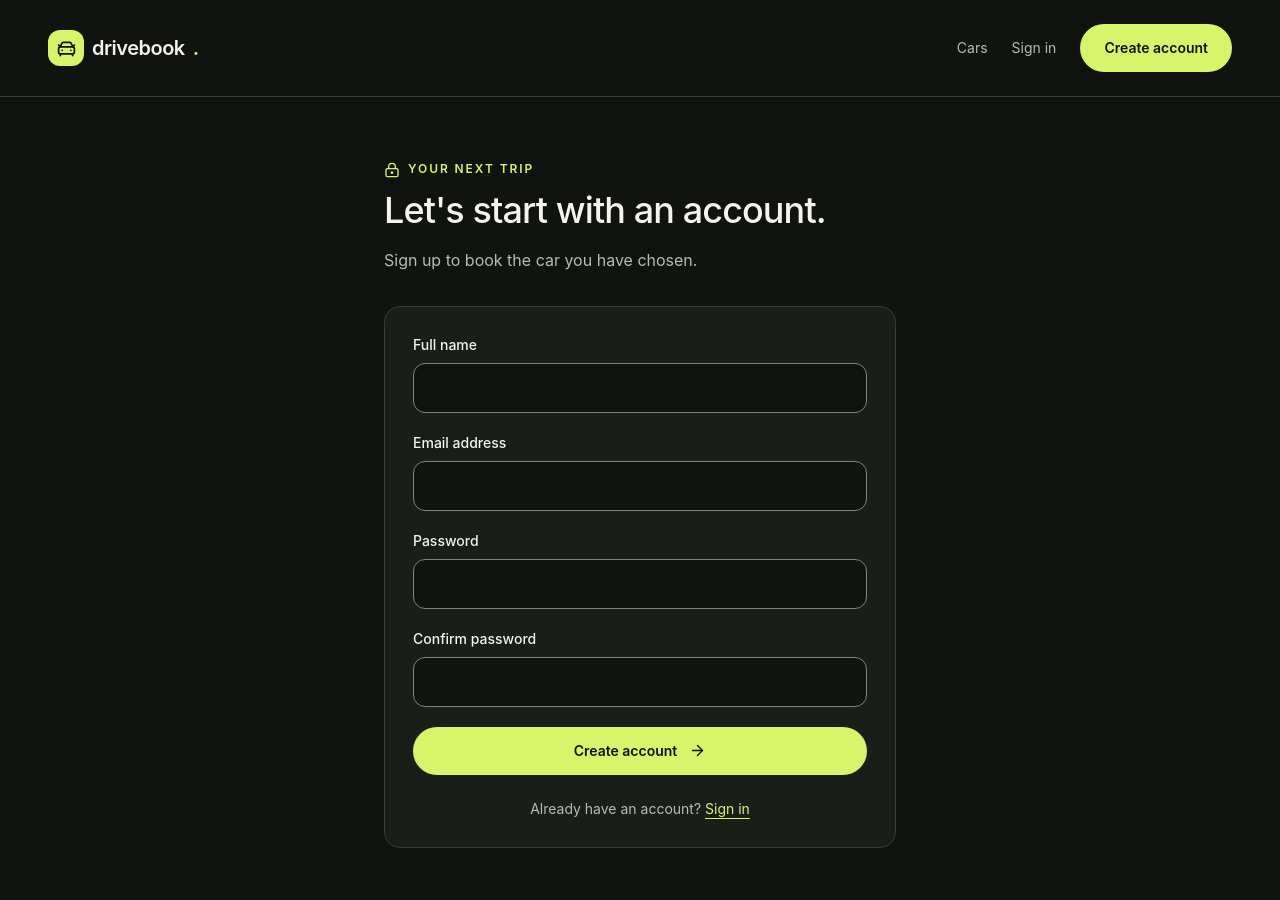
Test case: registration › describes the email field with the server message on 422
In the field labelled "Full name": (640, 388) [413,363,867,413], type "Demo Driver"
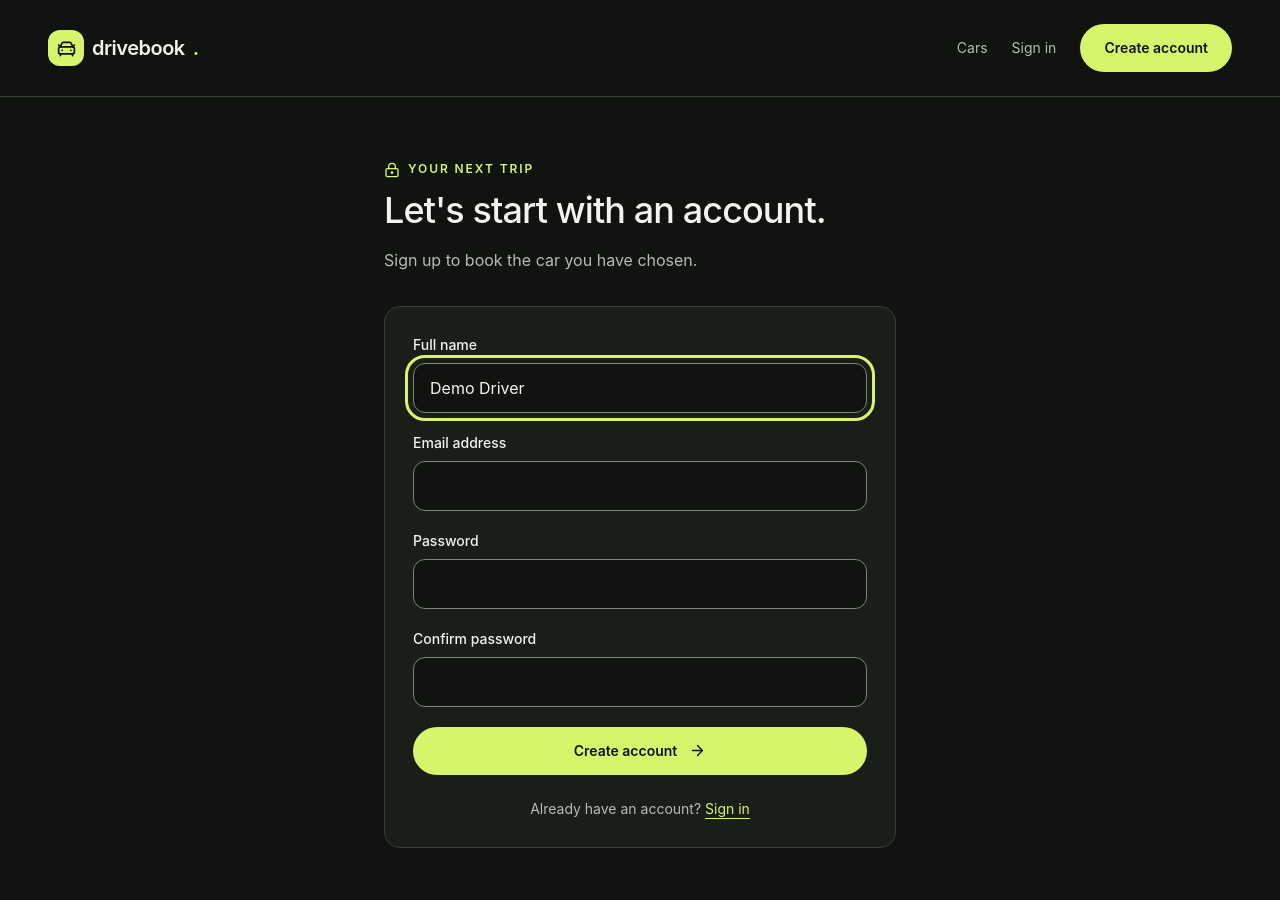
In the field labelled "Email address": (640, 486) [413,461,867,511], type "demo@drivebook.test"
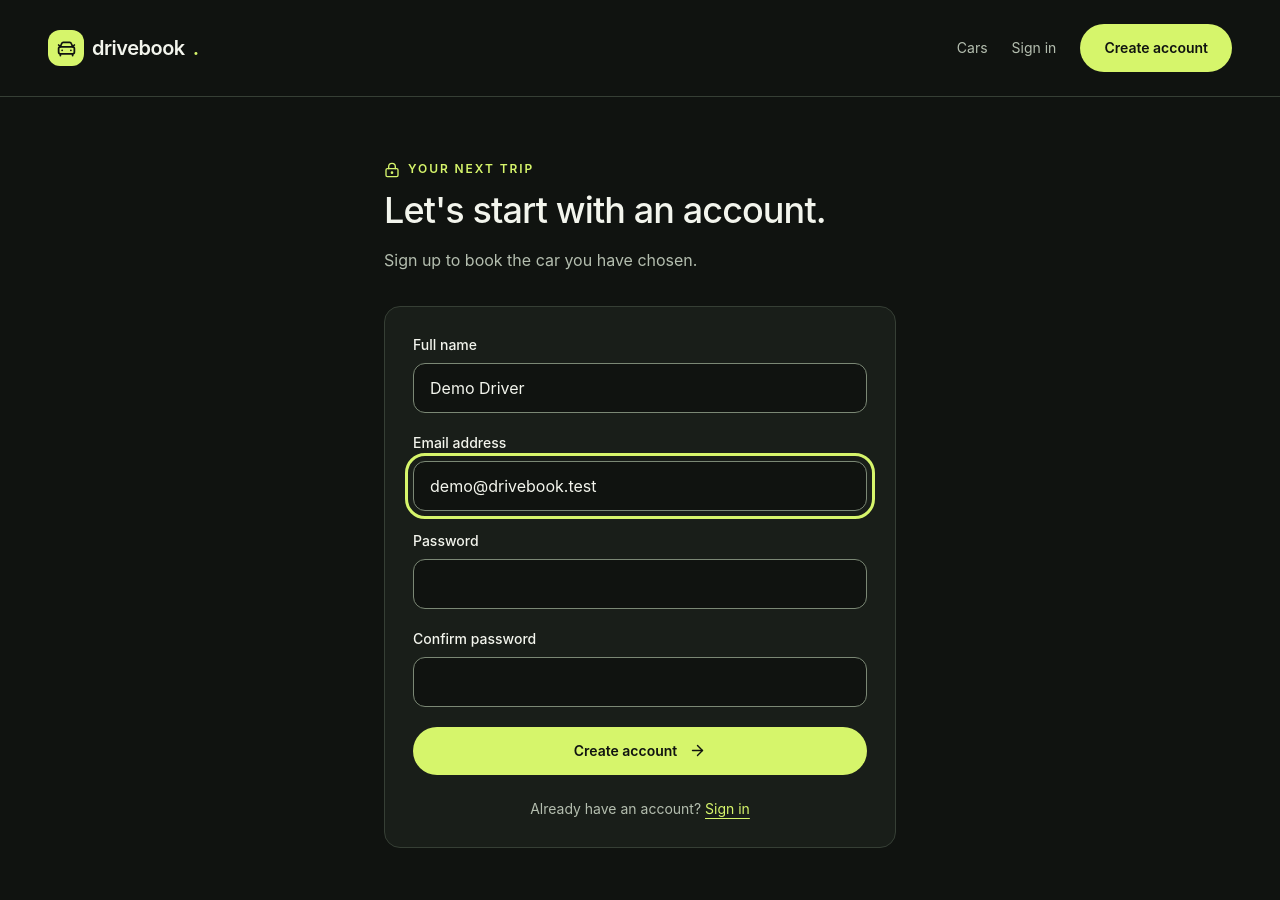
In the password field labelled "Password": (640, 584) [413,559,867,609], type "demo-password-123"
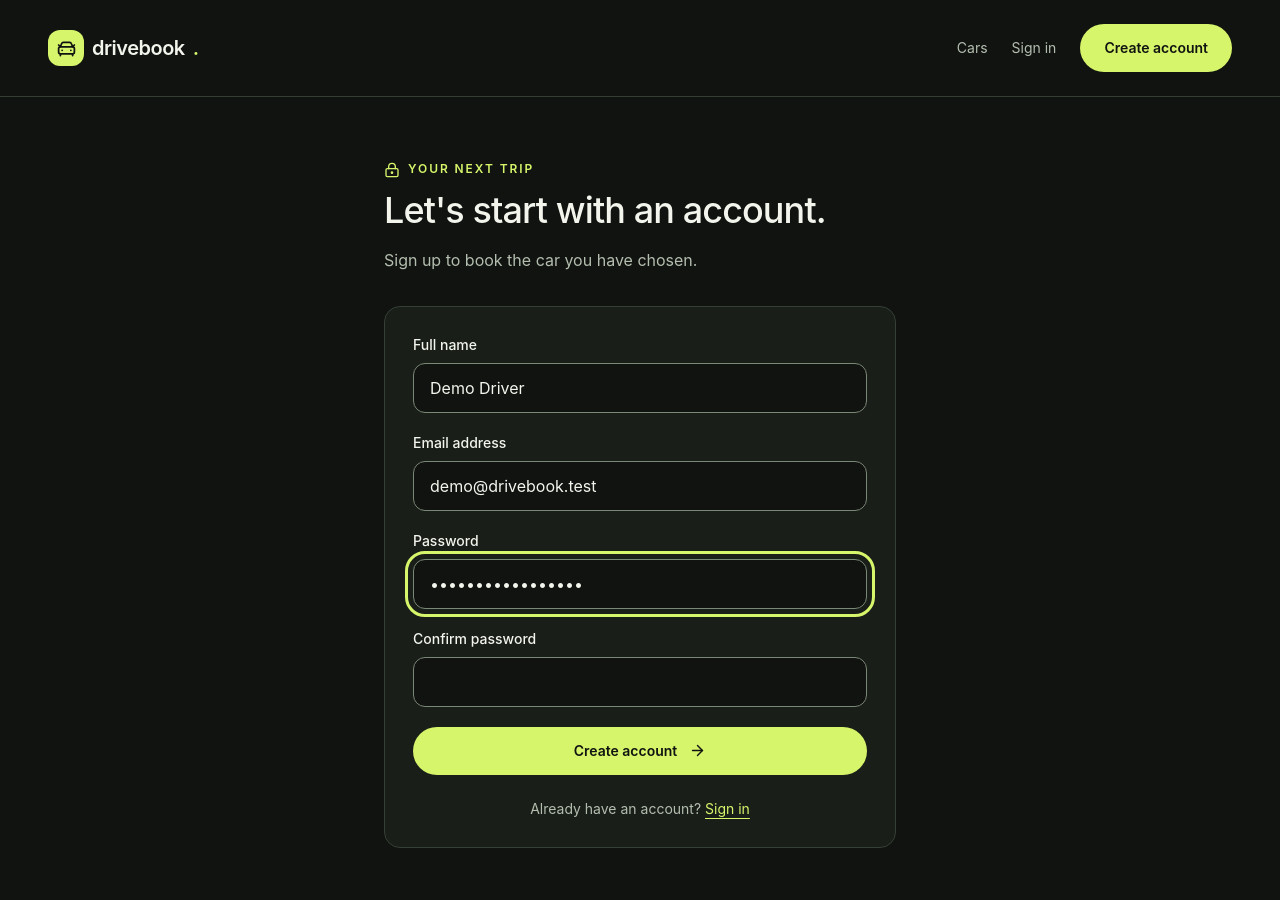
In the password field labelled "Confirm password": (640, 682) [413,657,867,707], type "demo-password-123"
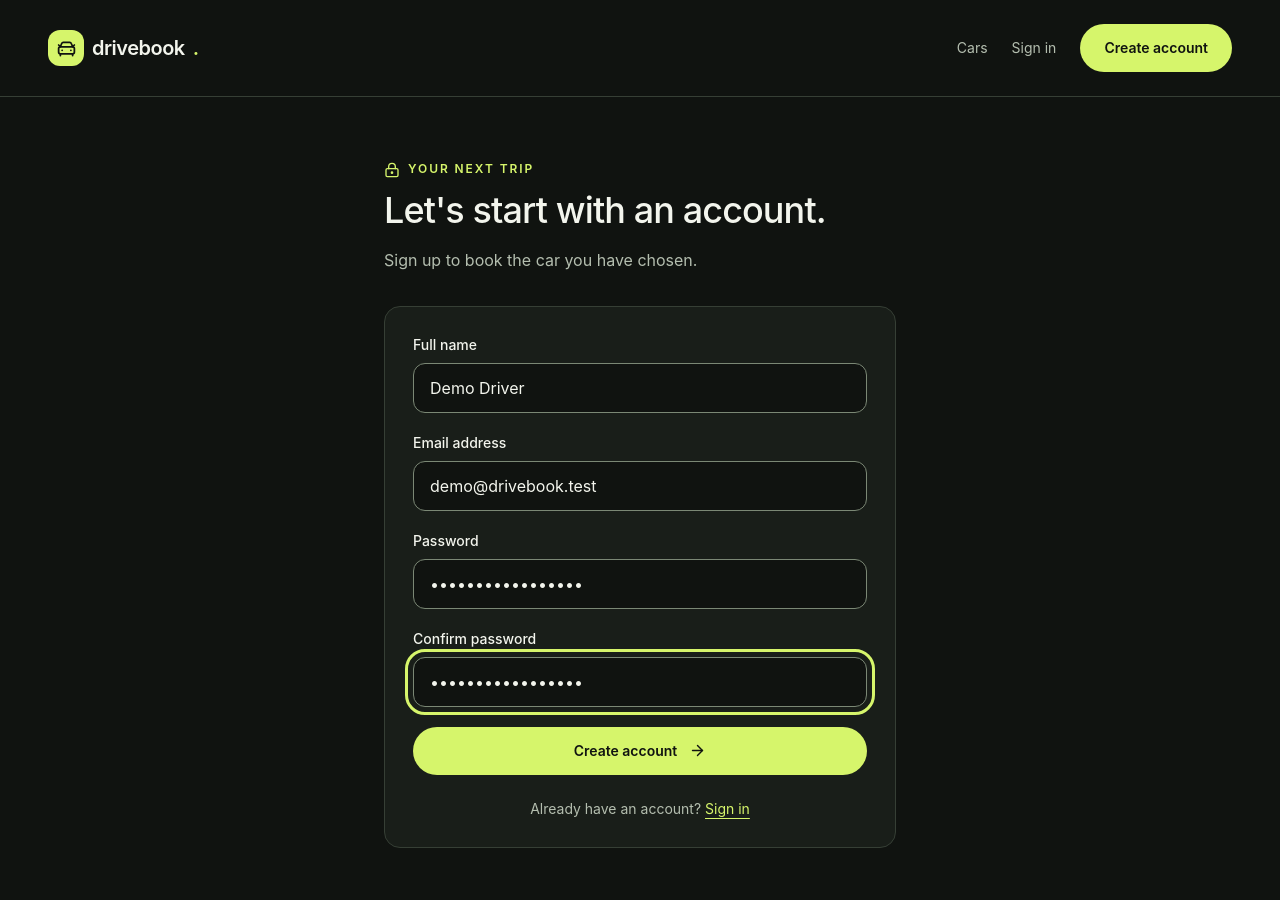
Click the button "Create account": (640, 751) [413,727,867,775]
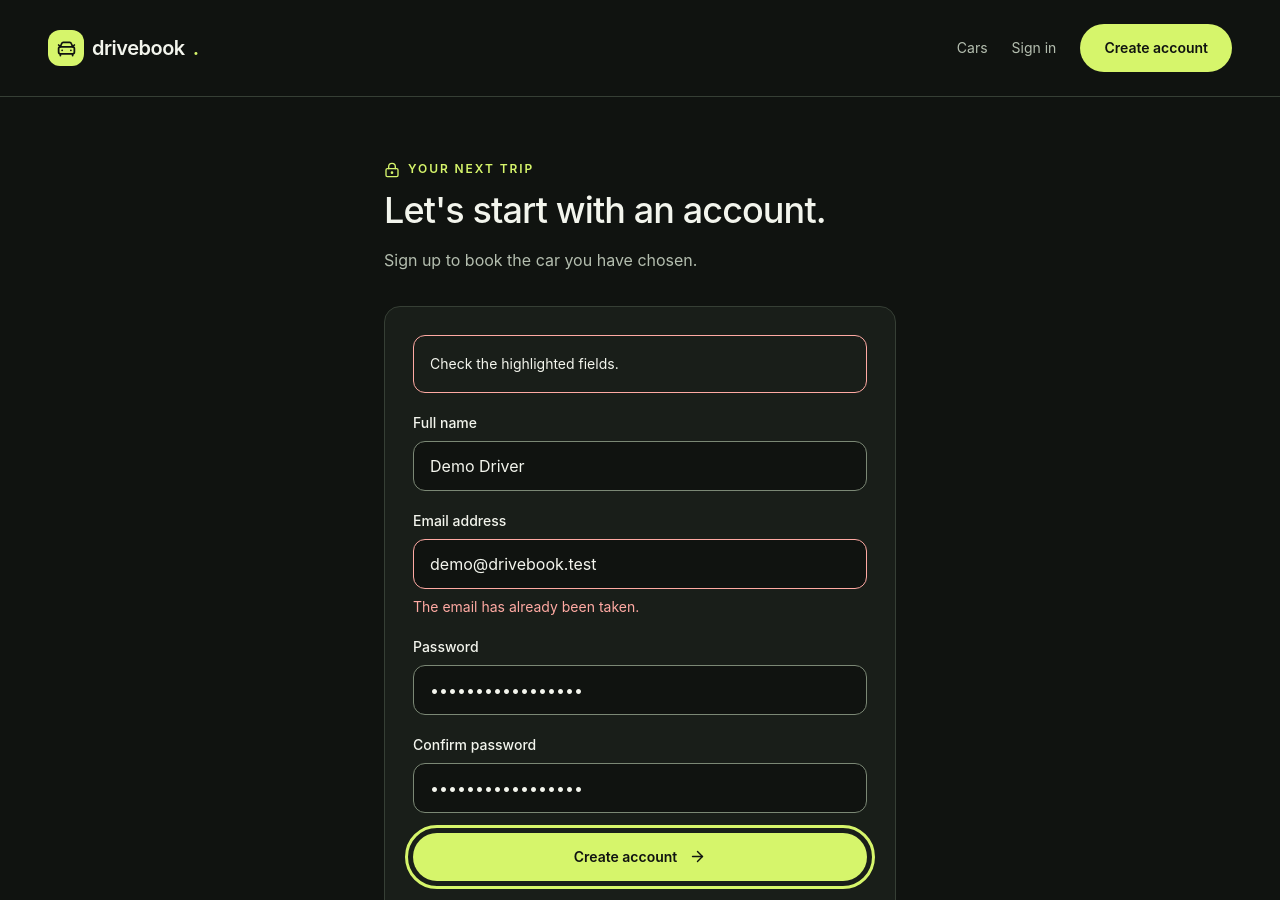
expect the message "Check the highlighted fields." is shown: met, box [413,335,867,393]
